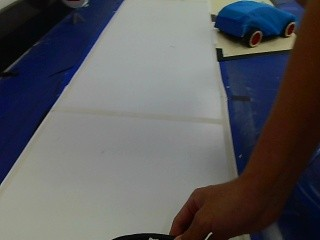car: (207, 0, 297, 49)
